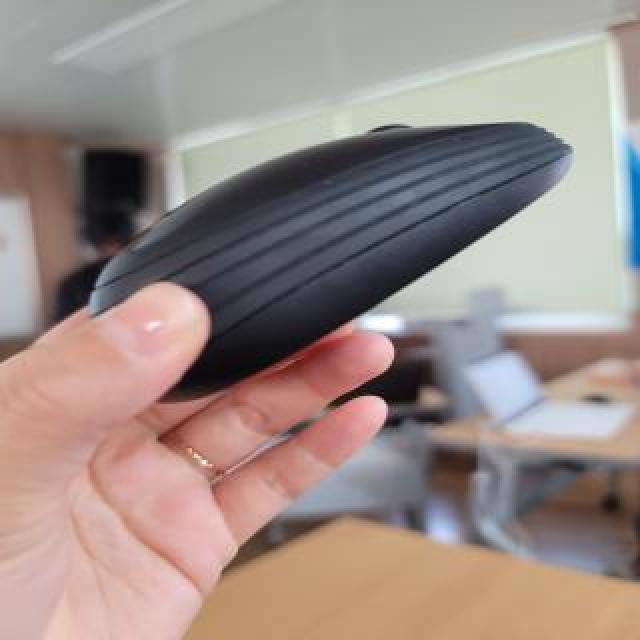mouse: (73, 95, 575, 383)
